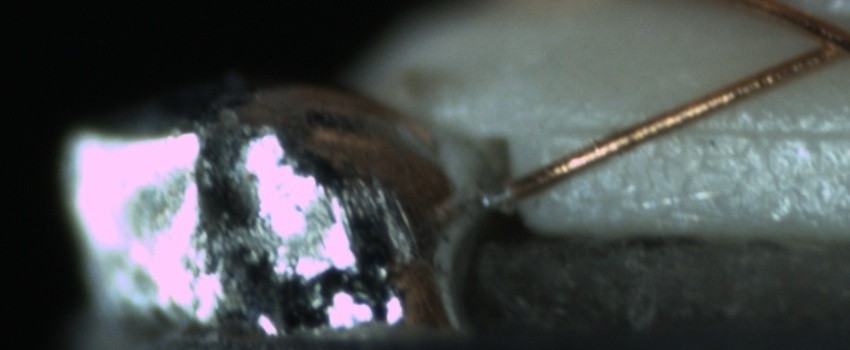CL: (794, 15, 850, 71)
DL: (549, 99, 849, 161)
TS: (478, 183, 510, 211)
